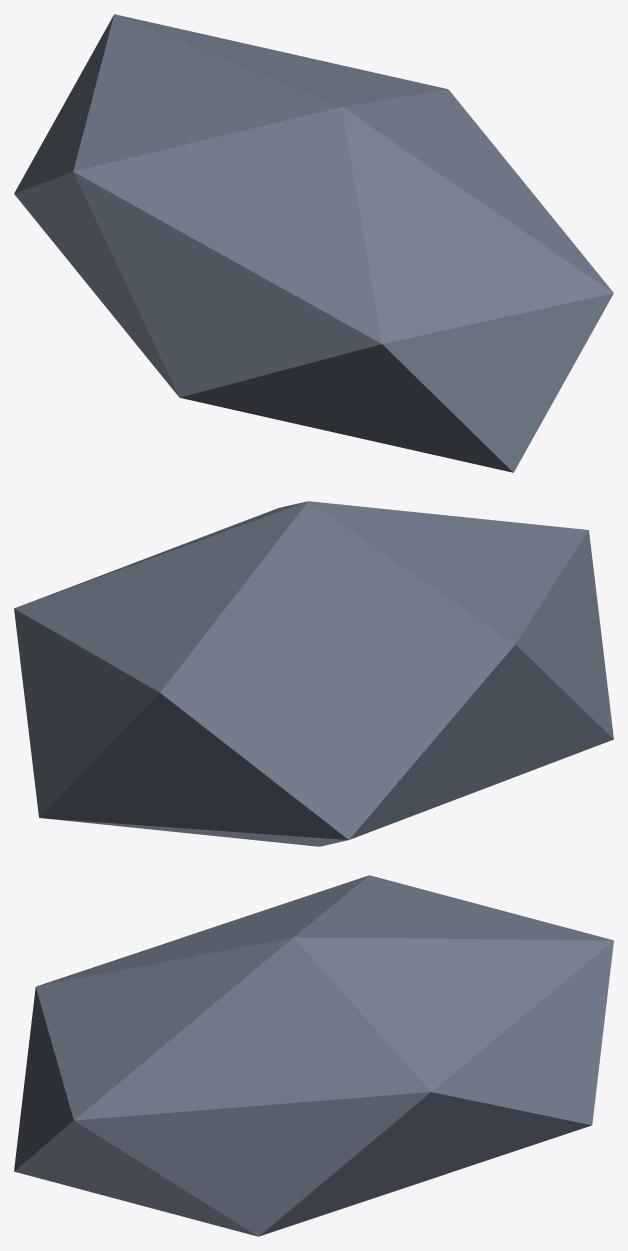
Rendered from EXTG_MainEastStone_05.glb.
The picture shows the model from 3 angles, top to bottom: view 1: azimuth 30°, elevation 25°; view 2: azimuth 150°, elevation 25°; view 3: azimuth 270°, elevation 25°; orthographic projection. The views are drawn at different scales.
Parts seen in each view (by area): view 1: EXTG_MainEastStone_05; view 2: EXTG_MainEastStone_05; view 3: EXTG_MainEastStone_05.
Boxes of the visible parts, x1=… form: EXTG_MainEastStone_05: x1=14, y1=14, x2=613, y2=472; EXTG_MainEastStone_05: x1=14, y1=501, x2=613, y2=846; EXTG_MainEastStone_05: x1=14, y1=875, x2=613, y2=1236.
Bounding box in the file's own units: 0.8569 × 0.5501 × 1.19.
